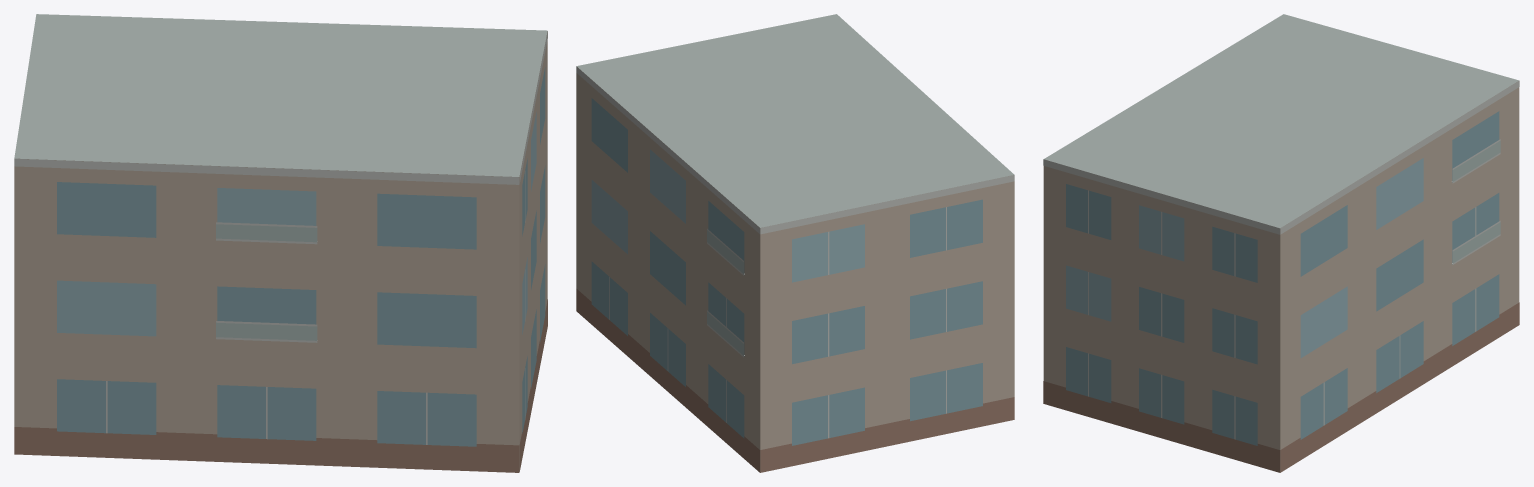
The model's file is survey-upis-32707462.glb.
The picture shows the model from 3 angles, left to right: view 1: azimuth 30°, elevation 25°; view 2: azimuth 150°, elevation 25°; view 3: azimuth 270°, elevation 25°; orthographic projection. The views are drawn at different scales.
Parts seen in each view (by area): view 1: survey-upis-32707462.tmp; view 2: survey-upis-32707462.tmp; view 3: survey-upis-32707462.tmp.
Part boxes in pixels (x1,y1,x2,y2): survey-upis-32707462.tmp: [14, 14, 547, 472]; survey-upis-32707462.tmp: [576, 14, 1014, 472]; survey-upis-32707462.tmp: [1043, 14, 1519, 472].
Bounding box in the file's own units: 17.21 × 9.15 × 16.15.
